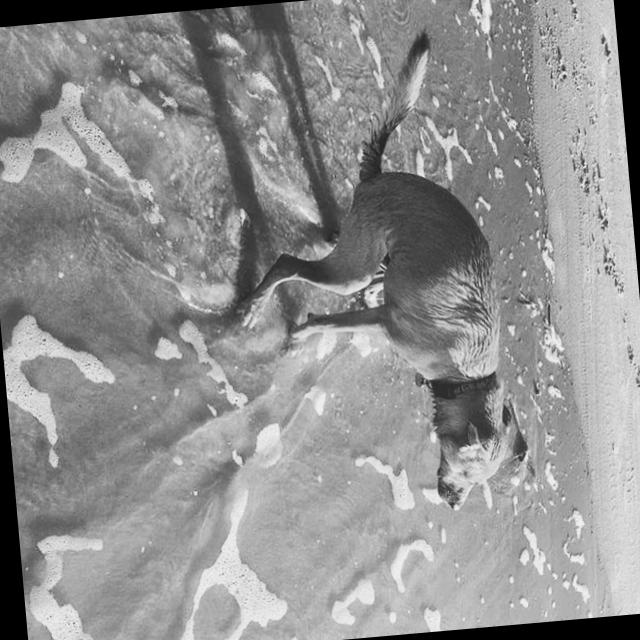squatting: (207, 16, 536, 541)
